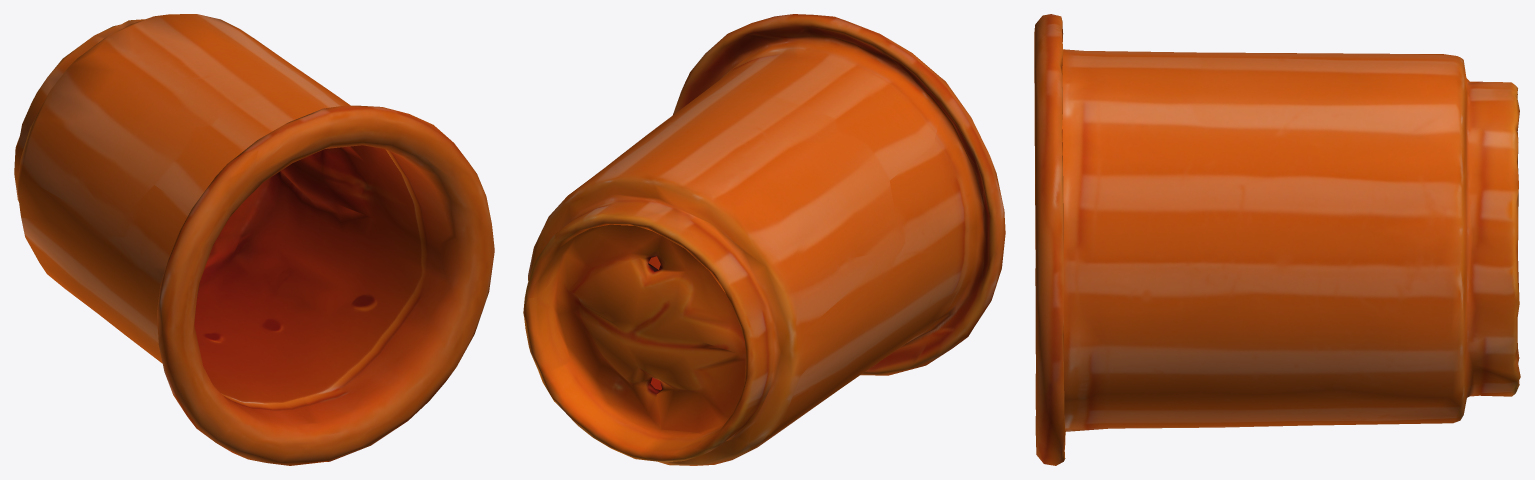
File: 065-a_cups.glb
3 renders of one model, left to right at view 1: azimuth 30°, elevation 25°; view 2: azimuth 150°, elevation 25°; view 3: azimuth 270°, elevation 25°, orthographic. The views are drawn at different scales.
Parts seen in each view (by area): view 1: textured.068; view 2: textured.068; view 3: textured.068.
Part boxes in pixels (x1=…): textured.068: x1=14, y1=14, x2=494, y2=465; textured.068: x1=523, y1=14, x2=1005, y2=465; textured.068: x1=1034, y1=14, x2=1520, y2=465.
Bounding box in the file's own units: 0.0571 × 0.0575 × 0.0615.
1 material, 1 textured.
